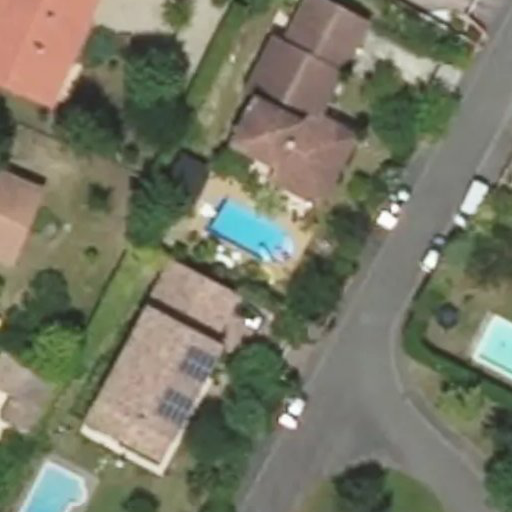pool: (203, 197, 293, 262), (20, 464, 86, 512)
